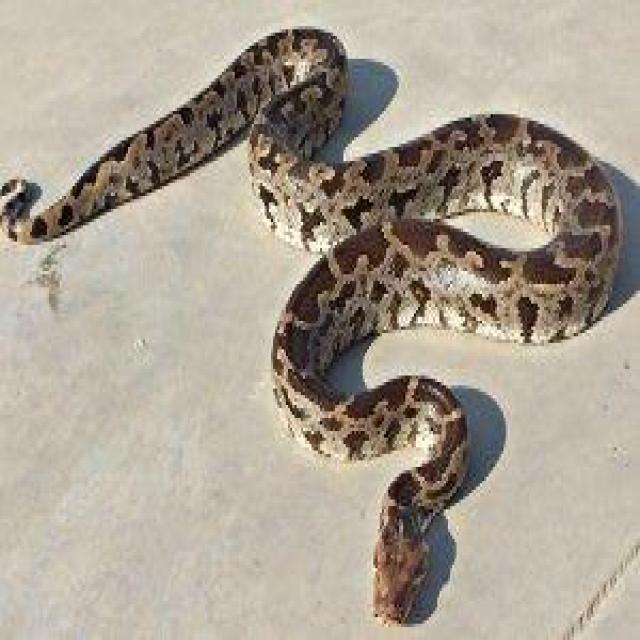Snake: (0, 23, 623, 627)
